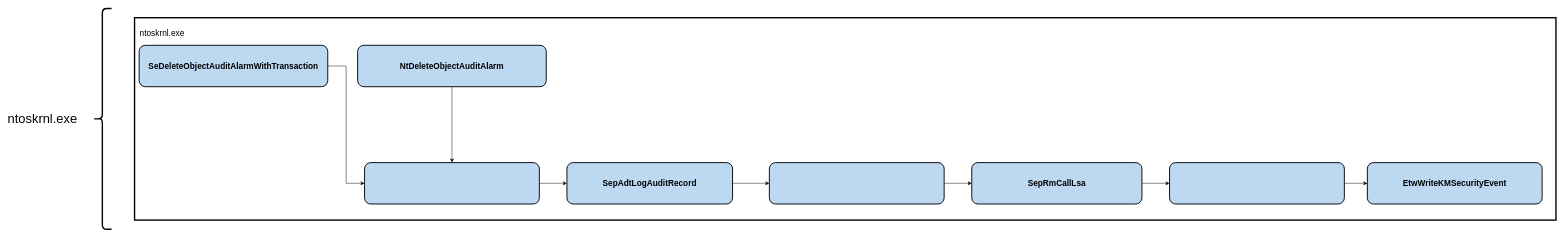
This 1564x238 diagram has some shape labels left out. The shapes that lost their labels are listed below. From the top down, each one's centre as x and y in pixels, then its label:
the point at 452,183: SepAdtDeleteObjectAuditAlarm
the point at 856,183: SepQueueWorkItem
the point at 1257,183: AdtpWriteToEtw
